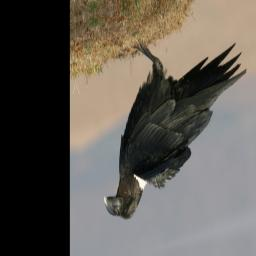Crow: (89, 6, 256, 230)
